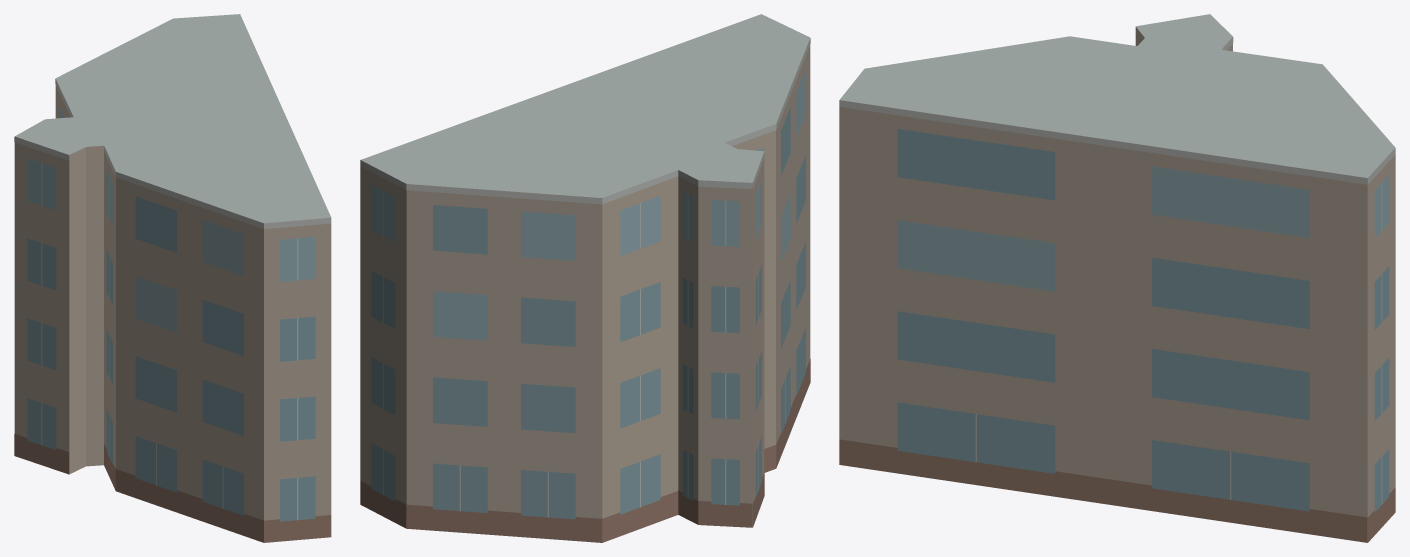
File: survey-upis-32759820.glb
3 views of the same model, side by side, from view 1: azimuth 30°, elevation 25°; view 2: azimuth 150°, elevation 25°; view 3: azimuth 270°, elevation 25° (orthographic). The views are drawn at different scales.
Parts seen in each view (by area): view 1: survey-upis-32759820.tmp; view 2: survey-upis-32759820.tmp; view 3: survey-upis-32759820.tmp.
Part boxes in pixels (left/top/right/bottom): survey-upis-32759820.tmp: left=14, top=14, right=331, bottom=542; survey-upis-32759820.tmp: left=360, top=14, right=810, bottom=542; survey-upis-32759820.tmp: left=839, top=14, right=1395, bottom=542.
Size of the model in its own units: 12.94 by 13.4 by 18.53.
